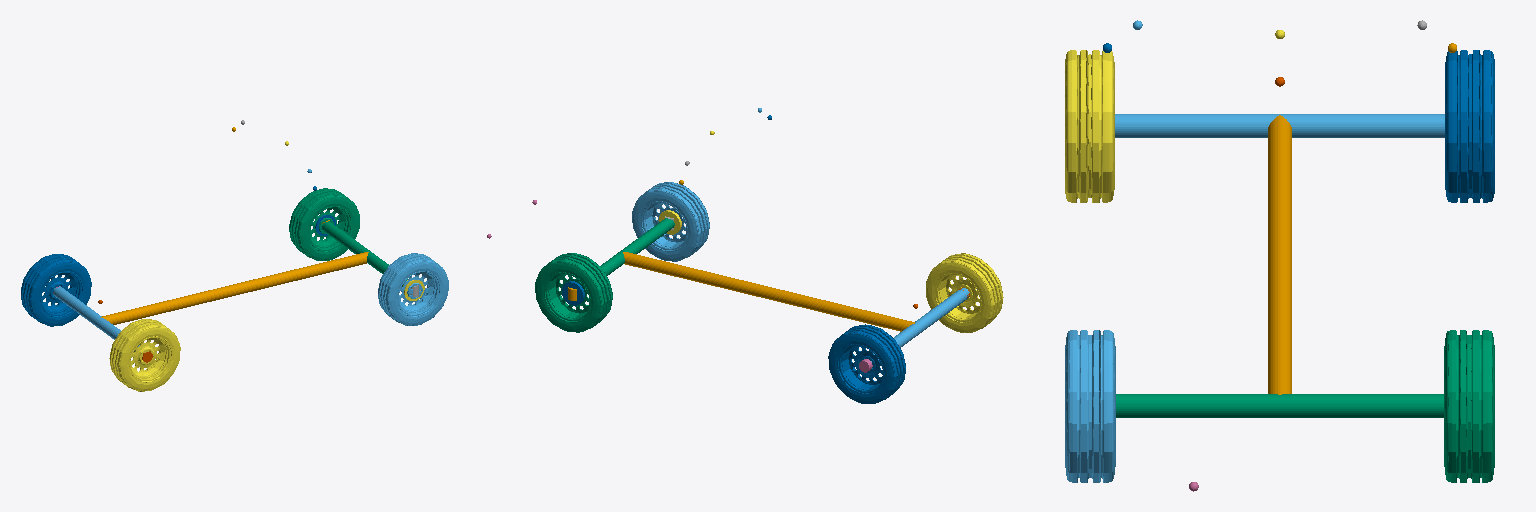
The robot description file, URDF, robot "nissanleaf":
<?xml version="1.0" encoding="UTF-8" standalone="no"?>
<robot name="nissanleaf">
  <!--GEN START: Kinematic links-->
  <!--GEN LINK: base_link-->
  <link name="base_link">
    <visual>
      <origin rpy="1.5707963146269321 0.0 1.5707963146269321" xyz="1.350000023841858 0.0 0.0"/>
      <geometry>
        <cylinder length="2.7" radius="0.05"/>
      </geometry>
    </visual>
    <visual>
      <origin rpy="0.0 0.0 0.0" xyz="0.0 0.0 0.0"/>
      <geometry>
        <mesh filename="package://nissan_gazebo_sim/meshes/Nissan_Leaf_Simulation_02_06.obj" scale="1.0 1.0 1.0"/>
      </geometry>
    </visual>
    <collision>
      <origin rpy="1.5707963146269321 0.0 1.5707963146269321" xyz="1.350000023841858 0.0 0.0"/>
      <geometry>
        <cylinder length="2.7" radius="0.05"/>
      </geometry>
    </collision>
    <collision>
      <geometry>
        <mesh filename="package://nissan_gazebo_sim/meshes/nissan_leaf_convex_hull.obj" scale="1.0 1.0 1.0"/>
      </geometry>
      <origin rpy="0.0 0.0 0.0" xyz="0.0 0.0 0.0"/>
    </collision>
    <inertial>
      <origin rpy="0.0 0.0 0.0" xyz="1.215 0.0 0.75"/>
      <inertia ixx="581.5625" ixy="0.0" ixz="0.0" iyy="1192.5" iyz="0.0" izz="1211.5625"/>
      <mass value="1500.0"/>
    </inertial>
  </link>
  <!--GEN LINK: rear_axle_link-->
  <link name="rear_axle_link">
    <visual>
      <origin rpy="1.5707963146269321 0.0 0.0" xyz="0.0 0.0 0.0"/>
      <geometry>
        <cylinder length="1.55" radius="0.05"/>
      </geometry>
    </visual>
    <inertial>
      <mass value="10.0"/>
      <inertia ixx="2.0083333333333333" ixy="0.0" ixz="0.0" iyy="2.0083333333333333" iyz="0.0" izz="0.012500000000000002"/>
    </inertial>
    <collision>
      <origin rpy="1.5707963146269321 0.0 0.0" xyz="0.0 0.0 0.0"/>
      <geometry>
        <cylinder length="1.55" radius="0.05"/>
      </geometry>
    </collision>
  </link>
  <!--GEN LINK: front_axle_link-->
  <link name="front_axle_link">
    <visual>
      <origin rpy="1.5707963146269321 0.0 0.0" xyz="0.0 0.0 0.0"/>
      <geometry>
        <cylinder length="1.545" radius="0.05"/>
      </geometry>
    </visual>
    <inertial>
      <mass value="10.0"/>
      <inertia ixx="1.9954375" ixy="0.0" ixz="0.0" iyy="1.9954375" iyz="0.0" izz="0.012500000000000002"/>
    </inertial>
    <collision>
      <origin rpy="1.5707963146269321 0.0 0.0" xyz="0.0 0.0 0.0"/>
      <geometry>
        <cylinder length="1.545" radius="0.05"/>
      </geometry>
    </collision>
  </link>
  <!--GEN LINK: front_left_wheel_link-->
  <link name="front_left_wheel_link">
    <visual>
      <origin rpy="1.5707963146269321 0.0 0.0" xyz="0.0 0.0 0.0"/>
      <geometry>
        <cylinder length="0.05" radius="0.1"/>
      </geometry>
    </visual>
    <inertial>
      <mass value="2.0"/>
      <inertia ixx="0.005416666666666668" ixy="0.0" ixz="0.0" iyy="0.005416666666666668" iyz="0.0" izz="0.010000000000000002"/>
    </inertial>
    <collision>
      <origin rpy="1.5707963146269321 0.0 0.0" xyz="0.0 0.0 0.0"/>
      <geometry>
        <cylinder length="0.05" radius="0.1"/>
      </geometry>
    </collision>
  </link>
  <!--GEN LINK: front_right_wheel_link-->
  <link name="front_right_wheel_link">
    <visual>
      <origin rpy="1.5707963146269321 0.0 0.0" xyz="0.0 0.0 0.0"/>
      <geometry>
        <cylinder length="0.05" radius="0.1"/>
      </geometry>
    </visual>
    <inertial>
      <mass value="2.0"/>
      <inertia ixx="0.005416666666666668" ixy="0.0" ixz="0.0" iyy="0.005416666666666668" iyz="0.0" izz="0.010000000000000002"/>
    </inertial>
    <collision>
      <origin rpy="1.5707963146269321 0.0 0.0" xyz="0.0 0.0 0.0"/>
      <geometry>
        <cylinder length="0.05" radius="0.1"/>
      </geometry>
    </collision>
  </link>
  <!--GEN LINK: rear_left_wheel_link-->
  <link name="rear_left_wheel_link">
    <visual>
      <origin rpy="1.5707963146269321 0.0 0.0" xyz="0.0 0.0 0.0"/>
      <geometry>
        <cylinder length="0.1" radius="0.05"/>
      </geometry>
    </visual>
    <inertial>
      <mass value="2.0"/>
      <inertia ixx="0.002916666666666667" ixy="0.0" ixz="0.0" iyy="0.002916666666666667" iyz="0.0" izz="0.0025000000000000005"/>
    </inertial>
    <collision>
      <origin rpy="1.5707963146269321 0.0 0.0" xyz="0.0 0.0 0.0"/>
      <geometry>
        <cylinder length="0.1" radius="0.05"/>
      </geometry>
    </collision>
  </link>
  <!--GEN LINK: rear_right_wheel_link-->
  <link name="rear_right_wheel_link">
    <visual>
      <origin rpy="1.5707963146269321 0.0 0.0" xyz="0.0 0.0 0.0"/>
      <geometry>
        <cylinder length="0.1" radius="0.05"/>
      </geometry>
    </visual>
    <inertial>
      <mass value="2.0"/>
      <inertia ixx="0.002916666666666667" ixy="0.0" ixz="0.0" iyy="0.002916666666666667" iyz="0.0" izz="0.0025000000000000005"/>
    </inertial>
    <collision>
      <origin rpy="1.5707963146269321 0.0 0.0" xyz="0.0 0.0 0.0"/>
      <geometry>
        <cylinder length="0.1" radius="0.05"/>
      </geometry>
    </collision>
  </link>
  <!--GEN LINK: front_steer_left_wheel_link-->
  <link name="front_steer_left_wheel_link">
    <visual>
      <origin xyz="0.0 0.0 0.0"/>
      <geometry>
        <cylinder length="0.1" radius="0.05"/>
      </geometry>
    </visual>
    <inertial>
      <mass value="2.0"/>
      <inertia ixx="0.002916666666666667" ixy="0.0" ixz="0.0" iyy="0.002916666666666667" iyz="0.0" izz="0.0025000000000000005"/>
    </inertial>
    <collision>
      <origin xyz="0.0 0.0 0.0"/>
      <geometry>
        <cylinder length="0.1" radius="0.05"/>
      </geometry>
    </collision>
  </link>
  <!--GEN LINK: front_steer_right_wheel_link-->
  <link name="front_steer_right_wheel_link">
    <visual>
      <origin xyz="0.0 0.0 0.0"/>
      <geometry>
        <cylinder length="0.1" radius="0.05"/>
      </geometry>
    </visual>
    <inertial>
      <mass value="2.0"/>
      <inertia ixx="0.002916666666666667" ixy="0.0" ixz="0.0" iyy="0.002916666666666667" iyz="0.0" izz="0.0025000000000000005"/>
    </inertial>
    <collision>
      <origin xyz="0.0 0.0 0.0"/>
      <geometry>
        <cylinder length="0.1" radius="0.05"/>
      </geometry>
    </collision>
  </link>
  <!--GEN LINK: front_left_wheel_link_drive-->
  <link name="front_left_wheel_link_drive">
    <visual>
      <origin rpy="0.0 0.0 -0.0" xyz="0.0 0.0 0.0"/>
      <geometry>
        <mesh filename="package://nissan_gazebo_sim/meshes/Nissan_Leaf_Wheel_Assembly_Right.obj" scale="1.0 1.0 1.0"/>
      </geometry>
    </visual>
    <collision>
      <geometry>
        <mesh filename="package://nissan_gazebo_sim/meshes/nissan__leaf_wheel_collision_qhull.obj" scale="1.0 1.0 1.0"/>
      </geometry>
      <origin rpy="0.0 0.0 -0.0" xyz="0.0 0.0 0.0"/>
    </collision>
    <inertial>
      <origin rpy="0.0 0.0 0.0" xyz="0.0 0.0 0.0"/>
      <inertia ixx="0.419915" ixy="0.0" ixz="0.0" iyy="0.419915" iyz="0.0" izz="0.7347675"/>
      <mass value="15.0"/>
    </inertial>
  </link>
  <!--GEN LINK: front_right_wheel_link_drive-->
  <link name="front_right_wheel_link_drive">
    <visual>
      <origin rpy="0.0 0.0 0.0" xyz="0.0 0.0 0.0"/>
      <geometry>
        <mesh filename="package://nissan_gazebo_sim/meshes/Nissan_Leaf_Wheel_Assembly_Right.obj" scale="1.0 1.0 1.0"/>
      </geometry>
    </visual>
    <collision>
      <geometry>
        <mesh filename="package://nissan_gazebo_sim/meshes/nissan__leaf_wheel_collision_qhull.obj" scale="1.0 1.0 1.0"/>
      </geometry>
      <origin rpy="0.0 0.0 0.0" xyz="0.0 0.0 0.0"/>
    </collision>
    <inertial>
      <origin rpy="0.0 0.0 0.0" xyz="0.0 0.0 0.0"/>
      <inertia ixx="0.419915" ixy="0.0" ixz="0.0" iyy="0.419915" iyz="0.0" izz="0.7347675"/>
      <mass value="15.0"/>
    </inertial>
  </link>
  <!--GEN LINK: rear_left_wheel_link_drive-->
  <link name="rear_left_wheel_link_drive">
    <visual>
      <origin rpy="0.0 0.0 -0.0" xyz="0.0 0.0 0.0"/>
      <geometry>
        <mesh filename="package://nissan_gazebo_sim/meshes/Nissan_Leaf_Wheel_Assembly_Right.obj" scale="1.0 1.0 1.0"/>
      </geometry>
    </visual>
    <collision>
      <geometry>
        <mesh filename="package://nissan_gazebo_sim/meshes/nissan__leaf_wheel_collision_qhull.obj" scale="1.0 1.0 1.0"/>
      </geometry>
      <origin rpy="0.0 0.0 -0.0" xyz="0.0 0.0 0.0"/>
    </collision>
    <inertial>
      <origin rpy="0.0 0.0 0.0" xyz="0.0 0.0 0.0"/>
      <inertia ixx="0.419915" ixy="0.0" ixz="0.0" iyy="0.419915" iyz="0.0" izz="0.7347675"/>
      <mass value="15.0"/>
    </inertial>
  </link>
  <!--GEN LINK: rear_right_wheel_link_drive-->
  <link name="rear_right_wheel_link_drive">
    <visual>
      <origin rpy="0.0 0.0 0.0" xyz="0.0 0.0 0.0"/>
      <geometry>
        <mesh filename="package://nissan_gazebo_sim/meshes/Nissan_Leaf_Wheel_Assembly_Right.obj" scale="1.0 1.0 1.0"/>
      </geometry>
    </visual>
    <collision>
      <geometry>
        <mesh filename="package://nissan_gazebo_sim/meshes/nissan__leaf_wheel_collision_qhull.obj" scale="1.0 1.0 1.0"/>
      </geometry>
      <origin rpy="0.0 0.0 0.0" xyz="0.0 0.0 0.0"/>
    </collision>
    <inertial>
      <origin rpy="0.0 0.0 0.0" xyz="0.0 0.0 0.0"/>
      <inertia ixx="0.419915" ixy="0.0" ixz="0.0" iyy="0.419915" iyz="0.0" izz="0.7347675"/>
      <mass value="15.0"/>
    </inertial>
  </link>
  <!--GEN LINK: duro-->
  <link name="duro">
    <visual>
      <origin xyz="0.0 0.0 0.0"/>
      <geometry>
        <sphere radius="0.02"/>
      </geometry>
    </visual>
    <inertial>
      <mass value="1.0"/>
      <inertia ixx="0.007999999940395353" ixy="0.0" ixz="0.0" iyy="0.007999999940395353" iyz="0.0" izz="0.007999999940395353"/>
    </inertial>
    <collision>
      <origin xyz="0.0 0.0 0.0"/>
      <geometry>
        <sphere radius="0.02"/>
      </geometry>
    </collision>
  </link>
  <!--GEN LINK: laser-->
  <link name="laser">
    <visual>
      <origin xyz="0.0 0.0 0.0"/>
      <geometry>
        <sphere radius="0.02"/>
      </geometry>
    </visual>
    <inertial>
      <mass value="0.0"/>
      <inertia ixx="0.0" ixy="0.0" ixz="0.0" iyy="0.0" iyz="0.0" izz="0.0"/>
    </inertial>
    <collision>
      <origin xyz="0.0 0.0 0.0"/>
      <geometry>
        <sphere radius="0.02"/>
      </geometry>
    </collision>
    <inertial>
      <mass value="0.0"/>
      <inertia ixx="0.0" ixy="0.0" ixz="0.0" iyy="0.0" iyz="0.0" izz="0.0"/>
    </inertial>
  </link>
  <!--GEN LINK: ouster_left-->
  <link name="ouster_left">
    <visual>
      <origin xyz="0.0 0.0 0.0"/>
      <geometry>
        <sphere radius="0.02"/>
      </geometry>
    </visual>
    <inertial>
      <mass value="1.0"/>
      <inertia ixx="0.007999999940395353" ixy="0.0" ixz="0.0" iyy="0.007999999940395353" iyz="0.0" izz="0.007999999940395353"/>
    </inertial>
    <collision>
      <origin xyz="0.0 0.0 0.0"/>
      <geometry>
        <sphere radius="0.02"/>
      </geometry>
    </collision>
  </link>
  <!--GEN LINK: velodyne_left-->
  <link name="velodyne_left">
    <visual>
      <origin xyz="0.0 0.0 0.0"/>
      <geometry>
        <sphere radius="0.02"/>
      </geometry>
    </visual>
    <inertial>
      <mass value="1.0"/>
      <inertia ixx="0.007999999940395353" ixy="0.0" ixz="0.0" iyy="0.007999999940395353" iyz="0.0" izz="0.007999999940395353"/>
    </inertial>
    <collision>
      <origin xyz="0.0 0.0 0.0"/>
      <geometry>
        <sphere radius="0.02"/>
      </geometry>
    </collision>
  </link>
  <!--GEN LINK: ouster_right-->
  <link name="ouster_right">
    <visual>
      <origin xyz="0.0 0.0 0.0"/>
      <geometry>
        <sphere radius="0.02"/>
      </geometry>
    </visual>
    <inertial>
      <mass value="1.0"/>
      <inertia ixx="0.007999999940395353" ixy="0.0" ixz="0.0" iyy="0.007999999940395353" iyz="0.0" izz="0.007999999940395353"/>
    </inertial>
    <collision>
      <origin xyz="0.0 0.0 0.0"/>
      <geometry>
        <sphere radius="0.02"/>
      </geometry>
    </collision>
  </link>
  <!--GEN LINK: duro_imu-->
  <link name="duro_imu">
    <visual>
      <origin xyz="0.0 0.0 0.0"/>
      <geometry>
        <sphere radius="0.02"/>
      </geometry>
    </visual>
    <inertial>
      <mass value="0.5"/>
      <inertia ixx="0.003999999970197676" ixy="0.0" ixz="0.0" iyy="0.003999999970197676" iyz="0.0" izz="0.003999999970197676"/>
    </inertial>
    <collision>
      <origin xyz="0.0 0.0 0.0"/>
      <geometry>
        <sphere radius="0.02"/>
      </geometry>
    </collision>
  </link>
  <!--GEN LINK: stereo_camera-->
  <link name="stereo_camera">
    <visual>
      <origin xyz="0.0 0.0 0.0"/>
      <geometry>
        <sphere radius="0.02"/>
      </geometry>
    </visual>
    <inertial>
      <mass value="1.0"/>
      <inertia ixx="0.007999999940395353" ixy="0.0" ixz="0.0" iyy="0.007999999940395353" iyz="0.0" izz="0.007999999940395353"/>
    </inertial>
    <collision>
      <origin xyz="0.0 0.0 0.0"/>
      <geometry>
        <sphere radius="0.02"/>
      </geometry>
    </collision>
  </link>
  <!--GEN LINK: velodyne_right-->
  <link name="velodyne_right">
    <visual>
      <origin xyz="0.0 0.0 0.0"/>
      <geometry>
        <sphere radius="0.02"/>
      </geometry>
    </visual>
    <inertial>
      <mass value="1.0"/>
      <inertia ixx="0.007999999940395353" ixy="0.0" ixz="0.0" iyy="0.007999999940395353" iyz="0.0" izz="0.007999999940395353"/>
    </inertial>
    <collision>
      <origin xyz="0.0 0.0 0.0"/>
      <geometry>
        <sphere radius="0.02"/>
      </geometry>
    </collision>
  </link>
  <!--GEN START: Kinematic joints-->
  <joint name="axle_front" type="fixed">
    <parent link="base_link"/>
    <child link="front_axle_link"/>
    <axis xyz="1.0 0.0 0.0"/>
    <origin xyz="2.700000047683716 0.0 0.0"/>
  </joint>
  <joint name="axle_rear" type="fixed">
    <parent link="base_link"/>
    <child link="rear_axle_link"/>
    <axis xyz="1.0 0.0 0.0"/>
    <origin xyz="-0.0 0.0 0.0"/>
  </joint>
  <joint name="axle_front_left" type="fixed">
    <parent link="front_axle_link"/>
    <child link="front_steer_left_wheel_link"/>
    <axis xyz="0.0 1.0 0.0"/>
    <origin xyz="0.0 -0.7724999785423279 0.0"/>
  </joint>
  <joint name="axle_front_right" type="fixed">
    <parent link="front_axle_link"/>
    <child link="front_steer_right_wheel_link"/>
    <axis xyz="0.0 1.0 0.0"/>
    <origin xyz="0.0 0.7724999785423279 0.0"/>
  </joint>
  <joint name="axle_rear_left" type="fixed">
    <parent link="rear_axle_link"/>
    <child link="rear_left_wheel_link"/>
    <axis xyz="0.0 1.0 0.0"/>
    <origin xyz="0.0 -0.7749999761581421 0.0"/>
  </joint>
  <joint name="axle_rear_right" type="fixed">
    <parent link="rear_axle_link"/>
    <child link="rear_right_wheel_link"/>
    <axis xyz="0.0 1.0 0.0"/>
    <origin xyz="0.0 0.7749999761581421 0.0"/>
  </joint>
  <joint name="jnt_front_left_steer" type="revolute">
    <parent link="front_steer_left_wheel_link"/>
    <child link="front_left_wheel_link"/>
    <axis xyz="0.0 0.0 1.0"/>
    <limit effort="8000.0" lower="-0.4886921905584123" upper="0.5585053606381855" velocity="0.4"/>
  </joint>
  <joint name="jnt_front_right_steer" type="revolute">
    <parent link="front_steer_right_wheel_link"/>
    <child link="front_right_wheel_link"/>
    <axis xyz="0.0 0.0 1.0"/>
    <limit effort="8000.0" lower="-0.4886921905584123" upper="0.5585053606381855" velocity="0.4"/>
  </joint>
  <joint name="joint_wheel_front_left" type="continuous">
    <parent link="front_left_wheel_link"/>
    <child link="front_left_wheel_link_drive"/>
    <axis xyz="0.0 1.0 0.0"/>
  </joint>
  <joint name="joint_wheel_front_right" type="continuous">
    <parent link="front_right_wheel_link"/>
    <child link="front_right_wheel_link_drive"/>
    <axis xyz="0.0 1.0 0.0"/>
  </joint>
  <joint name="joint_wheel_rear_left" type="continuous">
    <parent link="rear_left_wheel_link"/>
    <child link="rear_left_wheel_link_drive"/>
    <axis xyz="0.0 1.0 0.0"/>
  </joint>
  <joint name="joint_wheel_rear_right" type="continuous">
    <parent link="rear_right_wheel_link"/>
    <child link="rear_right_wheel_link_drive"/>
    <axis xyz="0.0 1.0 0.0"/>
  </joint>
  <joint name="jnt_duro" type="fixed">
    <parent link="base_link"/>
    <child link="duro"/>
    <axis xyz="0.0 0.0 1.0"/>
    <origin xyz="0.0 0.0 0.2"/>
  </joint>
  <joint name="jnt_laser" type="fixed">
    <parent link="base_link"/>
    <child link="laser"/>
    <axis xyz="0.0 0.0 1.0"/>
    <origin xyz="3.707 -0.351 0.108"/>
  </joint>
  <joint name="jnt_ouster_left" type="fixed">
    <parent link="base_link"/>
    <child link="ouster_left"/>
    <axis xyz="0.0 0.0 1.0"/>
    <origin xyz="1.769 0.58 1.278"/>
  </joint>
  <joint name="jnt_velodyne_left" type="fixed">
    <parent link="base_link"/>
    <child link="velodyne_left"/>
    <axis xyz="0.0 0.0 1.0"/>
    <origin xyz="1.749 0.703 1.166"/>
  </joint>
  <joint name="jnt_ouster_right" type="fixed">
    <parent link="base_link"/>
    <child link="ouster_right"/>
    <axis xyz="0.0 0.0 1.0"/>
    <origin xyz="1.769 -0.58 1.278"/>
  </joint>
  <joint name="jnt_duro_imu" type="fixed">
    <parent link="base_link"/>
    <child link="duro_imu"/>
    <axis xyz="0.0 0.0 1.0"/>
    <origin xyz="0.0 0.0 0.2"/>
  </joint>
  <joint name="jnt_stereo_camera" type="fixed">
    <parent link="base_link"/>
    <child link="stereo_camera"/>
    <axis xyz="0.0 0.0 1.0"/>
    <origin xyz="1.874 0.0 1.286"/>
  </joint>
  <joint name="jnt_velodyne_right" type="fixed">
    <parent link="base_link"/>
    <child link="velodyne_right"/>
    <axis xyz="0.0 0.0 1.0"/>
    <origin xyz="1.749 -0.703 1.166"/>
  </joint>
  <!--GEN START: Transmission definitions-->
  <!--GEN START: Sensor definitions-->
  <gazebo>
    <plugin filename="libhector_gazebo_ros_gps.so" name="duro">
      <updateRate>40</updateRate>
      <bodyName>duro</bodyName>
      <frameId>duro</frameId>
      <topicName>/gps/fix</topicName>
      <velocityTopicName>/gps/fix_velocity</velocityTopicName>
      <referenceLatitude>46.8944633103</referenceLatitude>
      <referenceLongitude>16.8349298959</referenceLongitude>
      <referenceAltitude>245.946914672852</referenceAltitude>
      <referenceHeading>90.0</referenceHeading>
    </plugin>
  </gazebo>
  <!--
  <gazebo reference="velodyne_left">
    <sensor name="velodyne_left" type="gpu_ray">
      <update_rate>10</update_rate>
      <ray>
        <scan>
          <horizontal>
            <samples>2187</samples>
            <resolution>1.0</resolution>
            <min_angle>-3.141592653589793</min_angle>
            <max_angle>3.141592653589793</max_angle>
          </horizontal>
          <vertical>
            <samples>16</samples>
            <resolution>1.0</resolution>
            <min_angle>-0.2617993877991494</min_angle>
            <max_angle>0.2617993877991494</max_angle>
          </vertical>
        </scan>
        <range>
          <min>0.4</min>
          <max>130.0</max>
          <resolution>0.01</resolution>
        </range>
      </ray>
      <plugin filename="libgazebo_ros_velodyne_gpu_laser.so" name="velodyne_velodyne_left">
        <topicName>/velodyne_left</topicName>
        <frameName>velodyne_left</frameName>
        <min_range>0.4</min_range>
        <max_range>130.0</max_range>
        <gaussianNoise>0.008</gaussianNoise>
      </plugin>
    </sensor>
  </gazebo>
  -->
  
  <gazebo reference="duro_imu">
    <sensor name="duro_imu" type="imu">
      <update_rate>100</update_rate>
      <plugin filename="libgazebo_ros_imu_sensor.so" name="imu_duro_imu_plugin">
        <topicName>/imu</topicName>
        <bodyName>duro_imu</bodyName>
        <updateRateHZ>100</updateRateHZ>
        <frameName>duro_imu</frameName>
      </plugin>
    </sensor>
  </gazebo>
  <gazebo reference="stereo_camera">
    <sensor name="stereo_camera" type="multicamera">
      <update_rate>30</update_rate>
      <camera name="stereo_camera_right">
        <pose>-0.07 0 0 0 0 0</pose>
        <horizontal_fov>1.413716694115407</horizontal_fov>
        <image>
          <width>1920</width>
          <height>1080</height>
          <format>R8G8B8</format>
        </image>
        <clip>
          <near>0.1</near>
          <far>300.0</far>
        </clip>
      </camera>
      <camera name="stereo_camera_left">
        <pose>0.07 0 0 0 0 0</pose>
        <horizontal_fov>1.413716694115407</horizontal_fov>
        <image>
          <width>1920</width>
          <height>1080</height>
          <format>R8G8B8</format>
        </image>
        <clip>
          <near>0.1</near>
          <far>300.0</far>
        </clip>
      </camera>
      <plugin filename="libgazebo_ros_multicamera.so" name="camera_stereo_camera_plugin">
        <cameraName>stereo_camera</cameraName>
        <imageTopicName>image_raw</imageTopicName>
        <frameName>stereo_camera</frameName>
      </plugin>
    </sensor>
  </gazebo>
  <!--
  <gazebo reference="velodyne_right">
    <sensor name="velodyne_right" type="gpu_ray">
      <update_rate>10</update_rate>
      <ray>
        <scan>
          <horizontal>
            <samples>2187</samples>
            <resolution>1.0</resolution>
            <min_angle>-3.141592653589793</min_angle>
            <max_angle>3.141592653589793</max_angle>
          </horizontal>
          <vertical>
            <samples>16</samples>
            <resolution>1.0</resolution>
            <min_angle>-0.2617993877991494</min_angle>
            <max_angle>0.2617993877991494</max_angle>
          </vertical>
        </scan>
        <range>
          <min>0.4</min>
          <max>130.0</max>
          <resolution>0.01</resolution>
        </range>
      </ray>
      <plugin filename="libgazebo_ros_velodyne_gpu_laser.so" name="velodyne_velodyne_right">
        <topicName>/velodyne_right</topicName>
        <frameName>velodyne_right</frameName>
        <min_range>0.4</min_range>
        <max_range>130.0</max_range>
        <gaussianNoise>0.008</gaussianNoise>
      </plugin>
    </sensor>
  </gazebo>
  -->
  <!--GEN START: Control plugins-->
  <gazebo>
    <plugin filename="libgazebo_nissan_leaf.so" name="gazebo_nissan_leaf">
        <!--
	    <start_steer_p_gain>30000.0</start_steer_p_gain>
	    <start_steer_i_gain>1.0</start_steer_i_gain>
	    <start_steer_d_gain>1000.0</start_steer_d_gain>
	    -->
	    <start_steer_p_gain>10000.0</start_steer_p_gain>
	    <start_steer_i_gain>1.0</start_steer_i_gain>
	    <start_steer_d_gain>50.0</start_steer_d_gain>
	    <start_velocity_p_gain>1000.0</start_velocity_p_gain>
	    <start_velocity_i_gain>0.01</start_velocity_i_gain>
	    <start_velocity_d_gain>10.0</start_velocity_d_gain>
	    <steer_control_tune>1</steer_control_tune>	    
	    <velocity_control_tune>1</velocity_control_tune>
    </plugin>
  </gazebo>
  
  <gazebo reference="front_left_wheel_link_drive">
    <mu1>0.7</mu1>
    <mu2>0.7</mu2>
    <minDepth>0.005</minDepth>
    <kp>1.0E8</kp>
  </gazebo>
  <gazebo reference="front_right_wheel_link_drive">
    <mu1>0.7</mu1>
    <mu2>0.7</mu2>
    <minDepth>0.005</minDepth>
    <kp>1.0E8</kp>
  </gazebo>
  <gazebo reference="rear_left_wheel_link_drive">
    <mu1>0.7</mu1>
    <mu2>0.7</mu2>
    <minDepth>0.005</minDepth>
    <kp>1.0E8</kp>
  </gazebo>
  <gazebo reference="rear_right_wheel_link_drive">
    <mu1>0.7</mu1>
    <mu2>0.7</mu2>
    <minDepth>0.005</minDepth>
    <kp>1.0E8</kp>
  </gazebo>
  
</robot>

--- Facts derived from the render (not from the file) ---
Views: 3 orthographic renders of the robot side by side, from view 1: azimuth 30°, elevation 25°; view 2: azimuth 150°, elevation 25°; view 3: azimuth 270°, elevation 25°.
Robot: nissanleaf — 21 links, 20 joints (2 revolute, 4 continuous, 14 fixed); root link base_link; default pose: every joint at zero.
Visible links, largest first — view 1: rear_left_wheel_link_drive, front_left_wheel_link_drive, rear_right_wheel_link_drive, front_right_wheel_link_drive, base_link, rear_axle_link, front_axle_link; view 2: rear_right_wheel_link_drive, front_right_wheel_link_drive, rear_left_wheel_link_drive, front_left_wheel_link_drive, base_link, rear_axle_link, front_axle_link; view 3: front_axle_link, front_left_wheel_link_drive, front_right_wheel_link_drive, rear_axle_link, rear_left_wheel_link_drive, rear_right_wheel_link_drive, base_link.
Boxes of the visible links, bbox=[...] form: rear_left_wheel_link_drive: bbox=[109, 319, 180, 391]; front_left_wheel_link_drive: bbox=[378, 253, 448, 325]; rear_right_wheel_link_drive: bbox=[21, 254, 91, 326]; front_right_wheel_link_drive: bbox=[289, 188, 359, 260]; base_link: bbox=[101, 252, 368, 324]; rear_axle_link: bbox=[53, 286, 139, 351]; front_axle_link: bbox=[322, 221, 407, 286]; rear_right_wheel_link_drive: bbox=[828, 324, 905, 403]; front_right_wheel_link_drive: bbox=[535, 253, 612, 332]; rear_left_wheel_link_drive: bbox=[926, 253, 1003, 332]; front_left_wheel_link_drive: bbox=[632, 182, 709, 261]; base_link: bbox=[623, 252, 914, 331]; rear_axle_link: bbox=[871, 288, 969, 361]; front_axle_link: bbox=[585, 218, 674, 288]; front_axle_link: bbox=[1116, 394, 1443, 417]; front_left_wheel_link_drive: bbox=[1065, 330, 1115, 482]; front_right_wheel_link_drive: bbox=[1444, 330, 1494, 482]; rear_axle_link: bbox=[1115, 114, 1444, 137]; rear_left_wheel_link_drive: bbox=[1065, 50, 1114, 202]; rear_right_wheel_link_drive: bbox=[1445, 50, 1494, 202]; base_link: bbox=[1268, 115, 1291, 394].
Size in the robot's own frame: 4.04 by 1.76 by 1.62 metres.
Meshes: 2 distinct files referenced, 4 mesh visuals loaded (1 OBJ); not drawn: 1 (reference not matched to a file when rendering).
